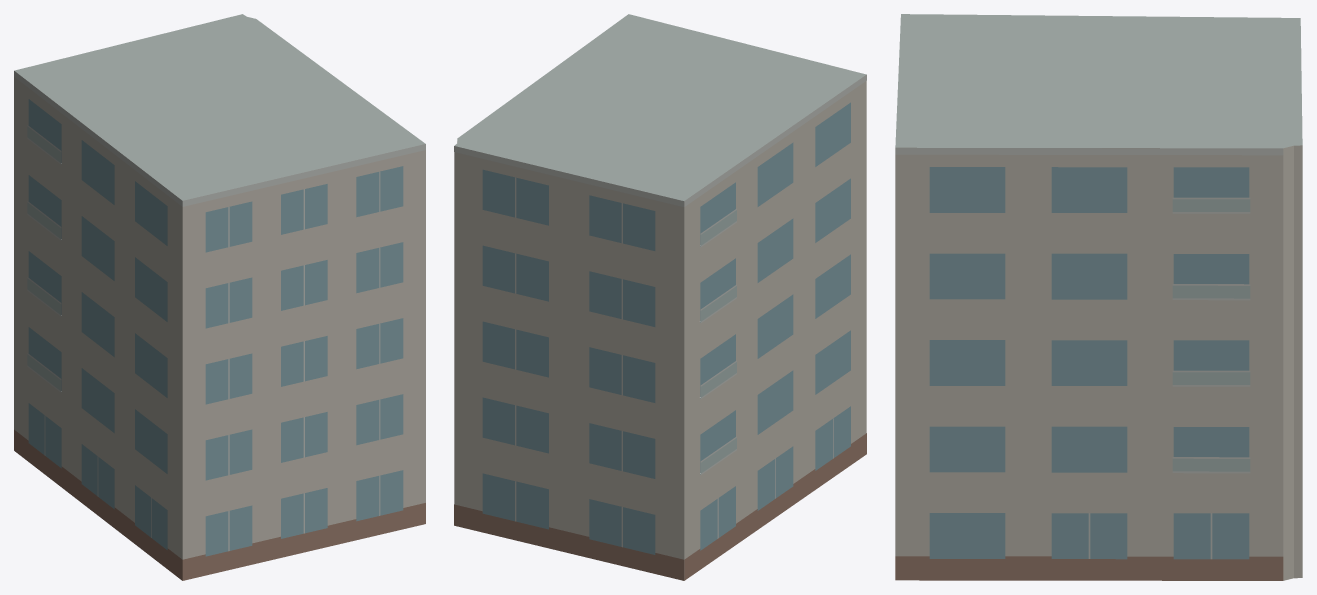
The model's file is survey-upis-32745543.glb.
3 views of the same model, side by side, from view 1: azimuth 30°, elevation 25°; view 2: azimuth 150°, elevation 25°; view 3: azimuth 270°, elevation 25° (orthographic). The views are drawn at different scales.
Parts seen in each view (by area): view 1: survey-upis-32745543.tmp; view 2: survey-upis-32745543.tmp; view 3: survey-upis-32745543.tmp.
Part boxes in pixels (x1,y1,x2,y2): survey-upis-32745543.tmp: (14,14,425,580); survey-upis-32745543.tmp: (454,14,866,580); survey-upis-32745543.tmp: (895,14,1302,580).
Size of the model in its own units: 10.19 by 15.25 by 13.02.
